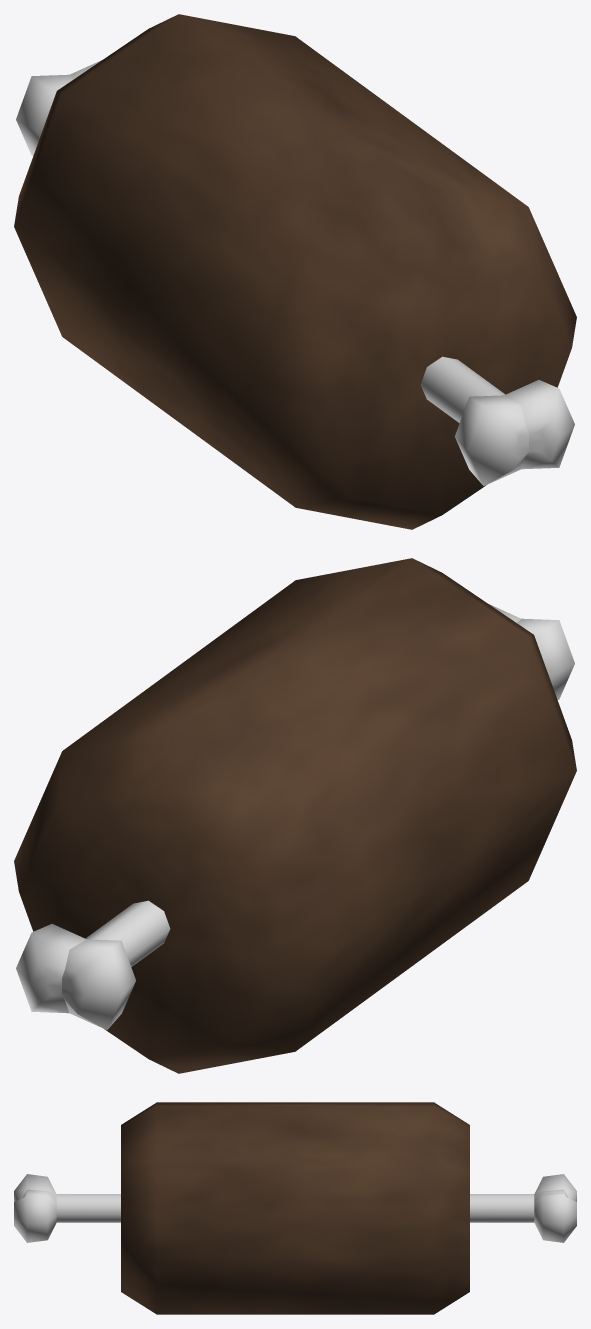
The picture shows the model from 3 angles, top to bottom: view 1: azimuth 30°, elevation 25°; view 2: azimuth 150°, elevation 25°; view 3: azimuth 270°, elevation 25°; orthographic projection. The views are drawn at different scales.
Visible parts, largest first — view 1: Meat Haunch; view 2: Meat Haunch; view 3: Meat Haunch.
Boxes of the visible parts, bbox=[...] form: Meat Haunch: bbox=[14, 14, 576, 529]; Meat Haunch: bbox=[14, 558, 576, 1073]; Meat Haunch: bbox=[14, 1102, 576, 1314].
Size of the model in its own units: 0.1057 by 0.1057 by 0.2634.
1 material, 1 textured.
